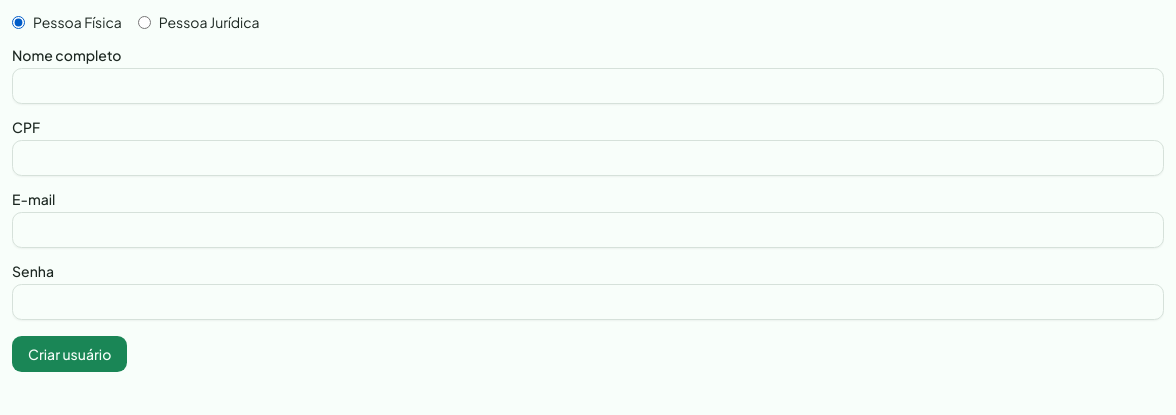
Test: UserForm › gestor não-owner não vê a opção GestorONG e rejeita CPF inválido
This screenshot has width=1176, height=415.
Type "Maria Silva" into the field labelled "Nome completo" at (588,86), box x1=12 y1=68 x2=1164 y2=104
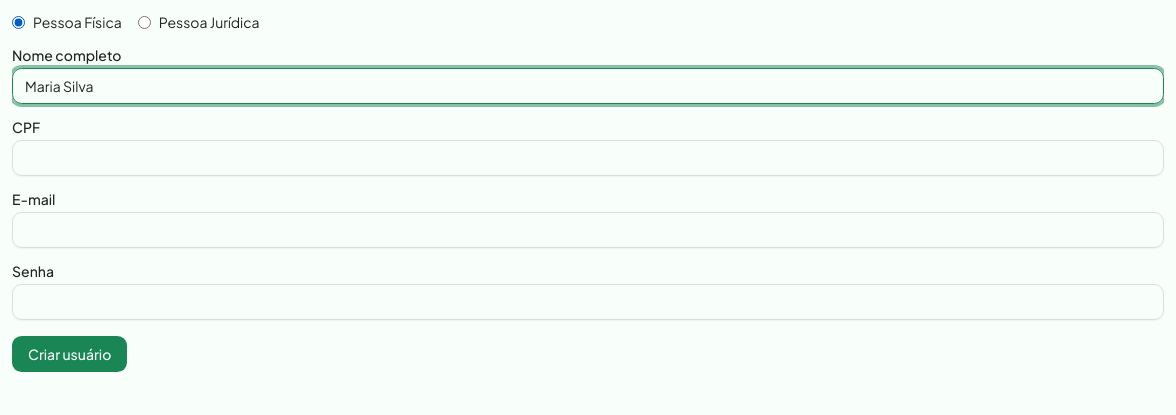
Type "111.111.111-11" into the field labelled "CPF" at (588,158), box x1=12 y1=140 x2=1164 y2=176
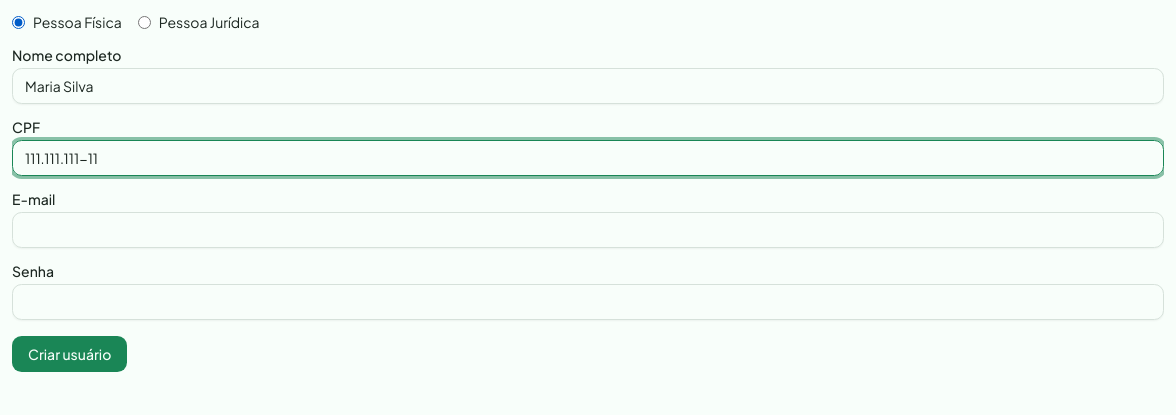
Type "m@x.com" into the field labelled "E-mail" at (588,230), box x1=12 y1=212 x2=1164 y2=248
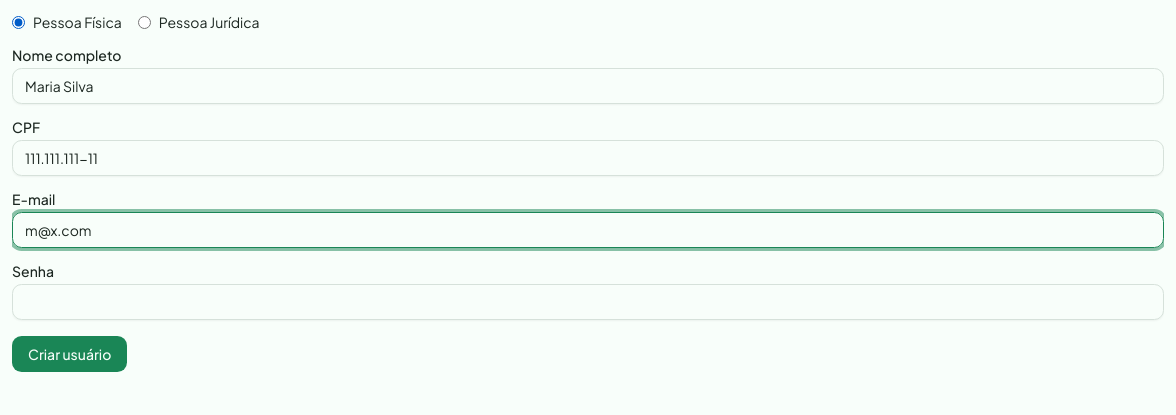
Type "Senha@123" into the password field labelled "Senha" at (588,302), box x1=12 y1=284 x2=1164 y2=320
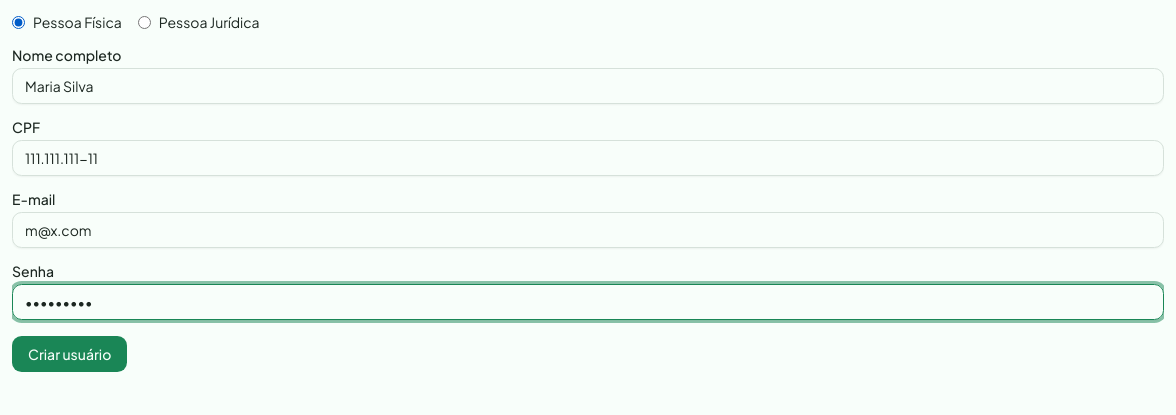
Click the button "Criar usuário" at (70,354), box x1=12 y1=336 x2=127 y2=372
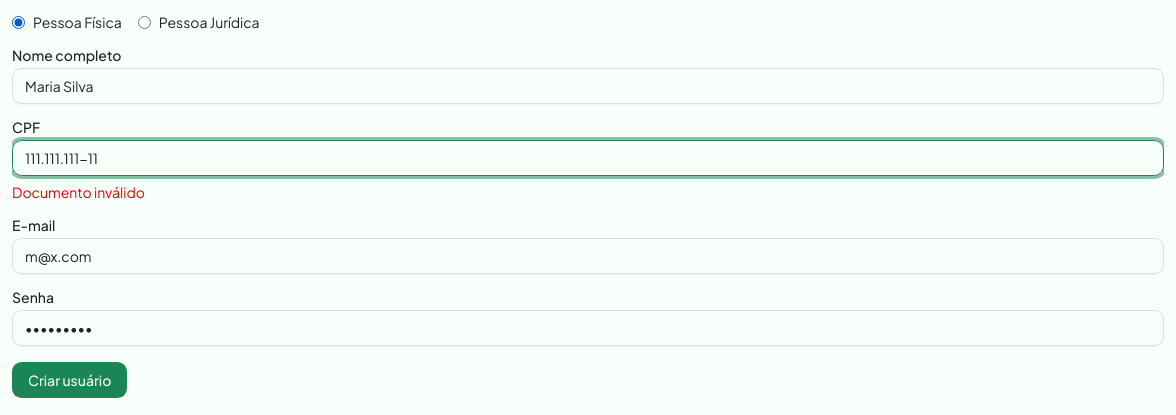
Expected: the text "Documento inválido" is shown, x1=12 y1=183 x2=145 y2=201
